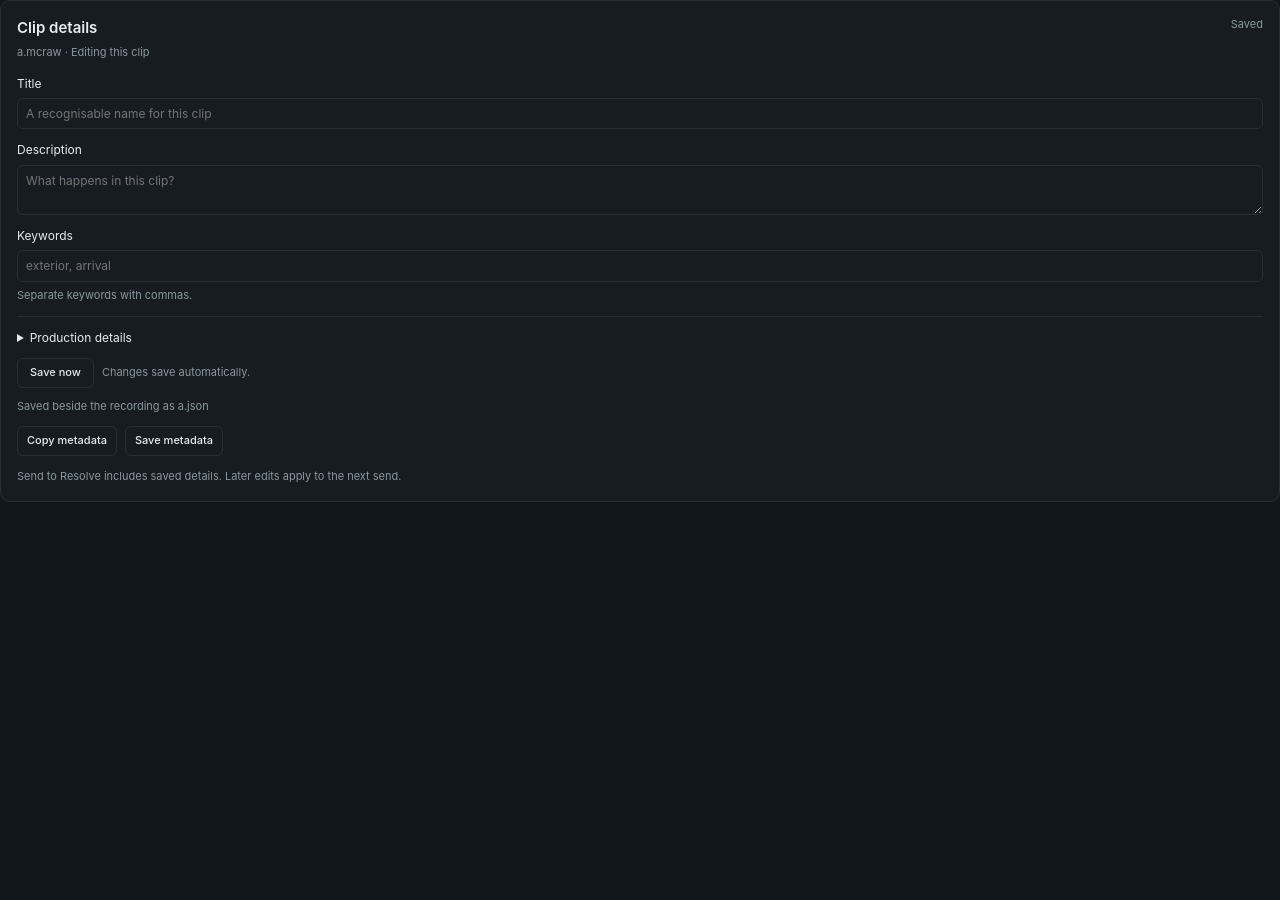
names a distant city with its distance and does not offer it as the Location
Expected: the field labelled "Title" is enabled, [17,98,1263,130]
Click the heading "Production details" at (81, 337), box [30,330,132,345]
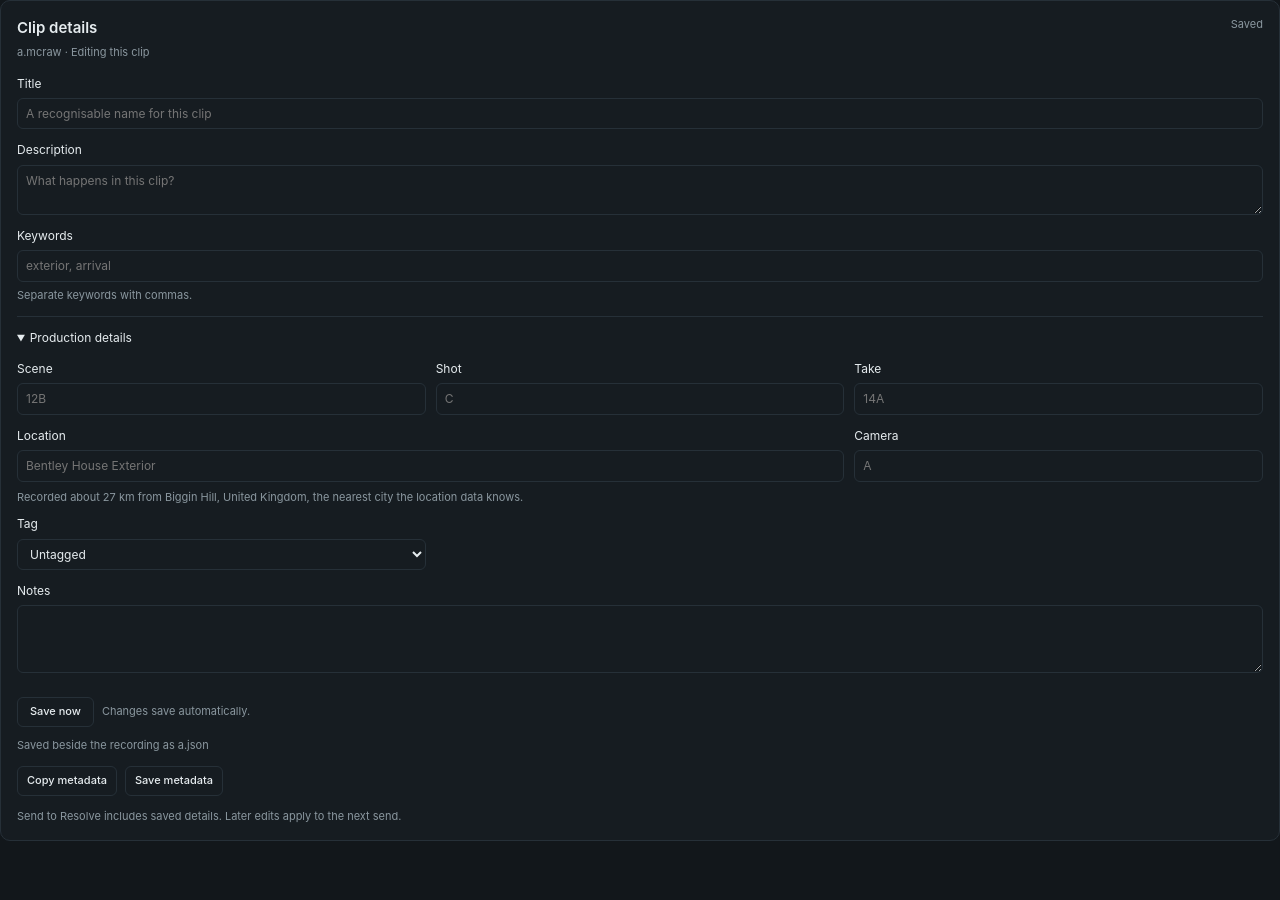
Expected: the text "Recorded about 27 km from Biggin Hill, United Kingdom" is shown, [17,490,523,504]
